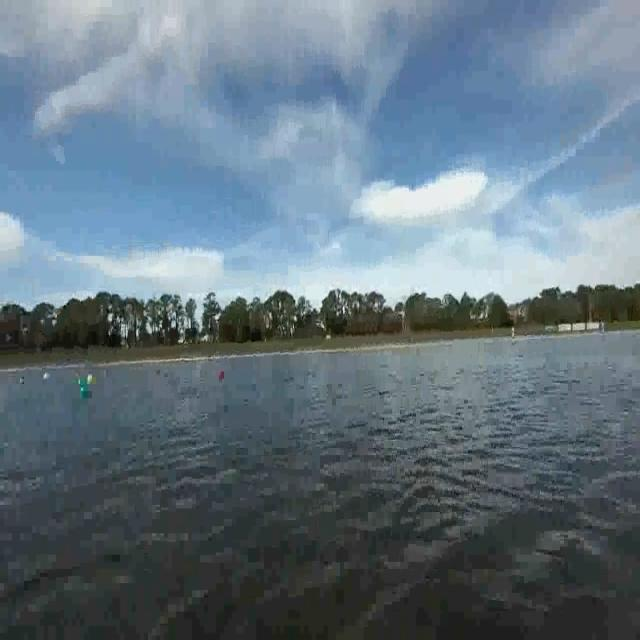blue-buoy: (78, 383, 90, 402)
red-buoy: (218, 368, 224, 378)
yellow-buoy: (88, 375, 97, 387)
